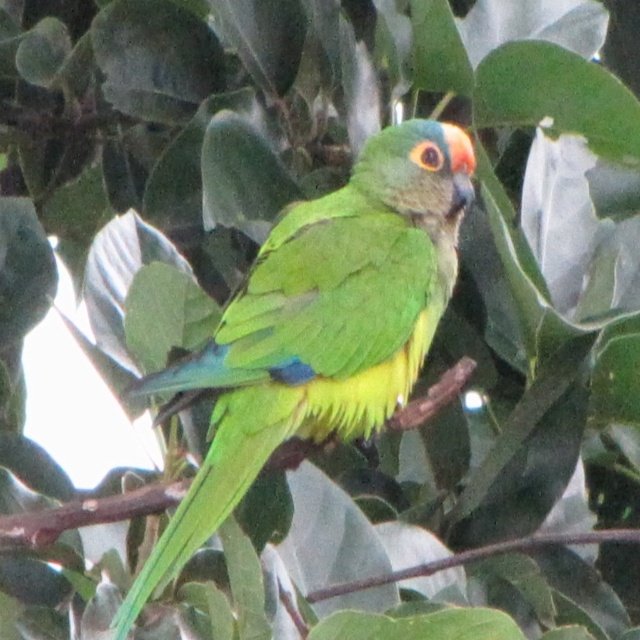Parrot: (108, 118, 477, 640)
